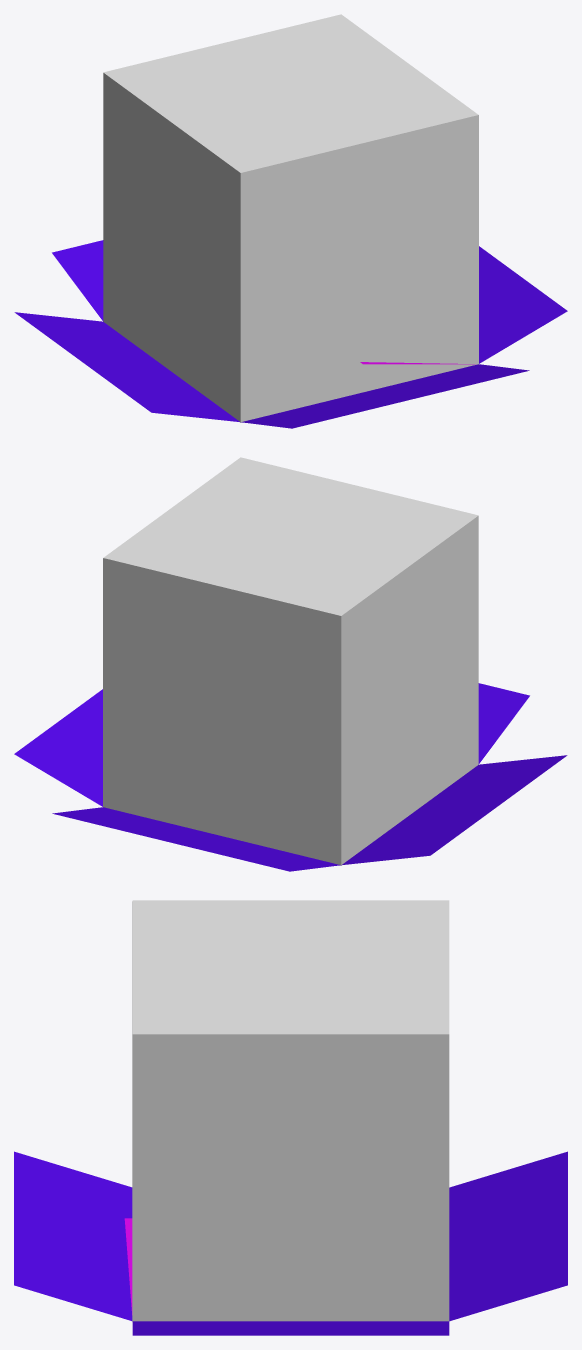
3 renders of one model, top to bottom at view 1: azimuth 30°, elevation 25°; view 2: azimuth 150°, elevation 25°; view 3: azimuth 270°, elevation 25°, orthographic. The views are drawn at different scales.
Parts seen in each view (by area): view 1: BoxOpen, BoxOpen2; view 2: BoxOpen; view 3: BoxOpen2, BoxOpen.
Boxes of the visible parts, left/top/right/bottom form: BoxOpen: left=14, top=14, right=567, bottom=428; BoxOpen2: left=240, top=115, right=478, bottom=422; BoxOpen: left=14, top=457, right=567, bottom=871; BoxOpen2: left=132, top=901, right=449, bottom=1321; BoxOpen: left=14, top=900, right=567, bottom=1335.
Bounding box in the file's own units: 697 × 400 × 697.
